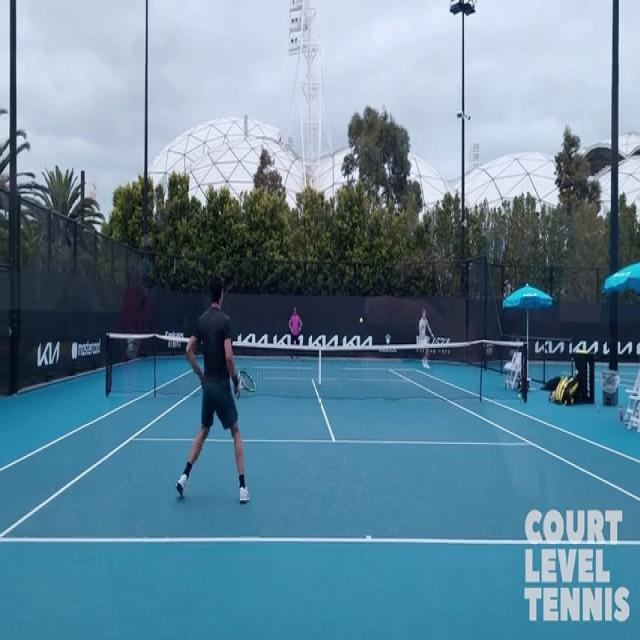ready-position: (177, 275, 260, 513)
